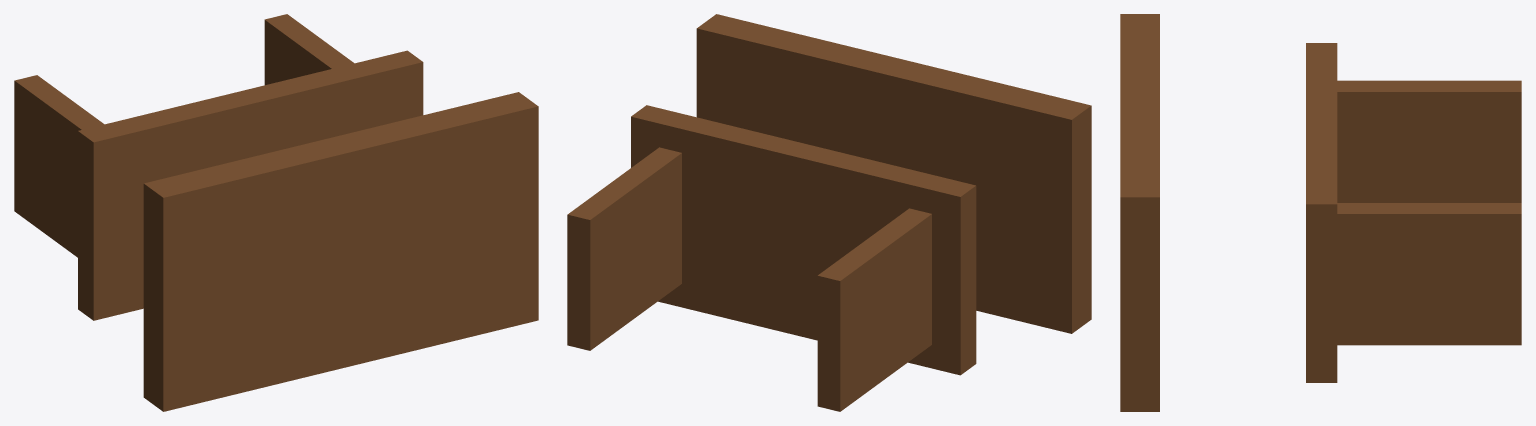
Rendered from SM_ShProduceStand.obj.
3 renders of one model, left to right at view 1: azimuth 30°, elevation 25°; view 2: azimuth 150°, elevation 25°; view 3: azimuth 270°, elevation 25°, orthographic.
Visible parts, largest first — view 1: SM_ShProduceStand; view 2: SM_ShProduceStand; view 3: SM_ShProduceStand.
Part boxes in pixels (box(x1,y1,x2,y2)): SM_ShProduceStand: box(14, 14, 538, 411); SM_ShProduceStand: box(567, 14, 1091, 411); SM_ShProduceStand: box(1120, 14, 1521, 411).
Bounding box in the file's own units: 165 × 90 × 152.
